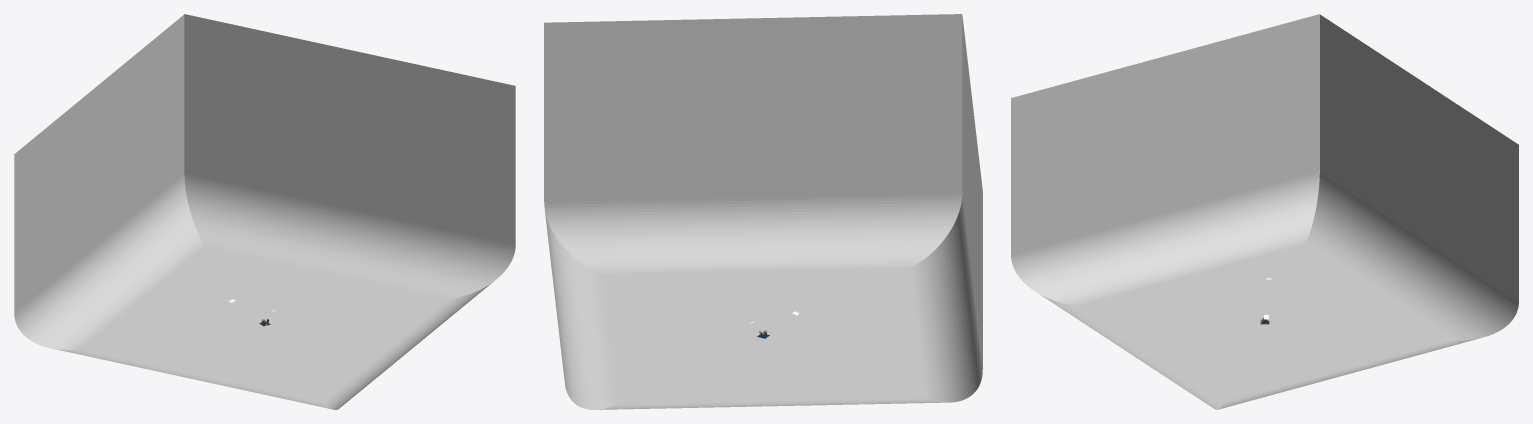
Rendered from DeskSceneLIGHT.glb.
The picture shows the model from 3 angles, left to right: view 1: azimuth 30°, elevation 25°; view 2: azimuth 150°, elevation 25°; view 3: azimuth 270°, elevation 25°; orthographic projection. The views are drawn at different scales.
Visible parts, largest first — view 1: Plane.001; view 2: Plane.001; view 3: Plane.001.
Boxes of the visible parts, x1,y1,x2,y2 form: Plane.001: [14, 14, 515, 409]; Plane.001: [544, 14, 982, 409]; Plane.001: [1011, 14, 1518, 409].
Bounding box in the file's own units: 414 × 181 × 414.
Materials: 8 (5 with a texture image).
